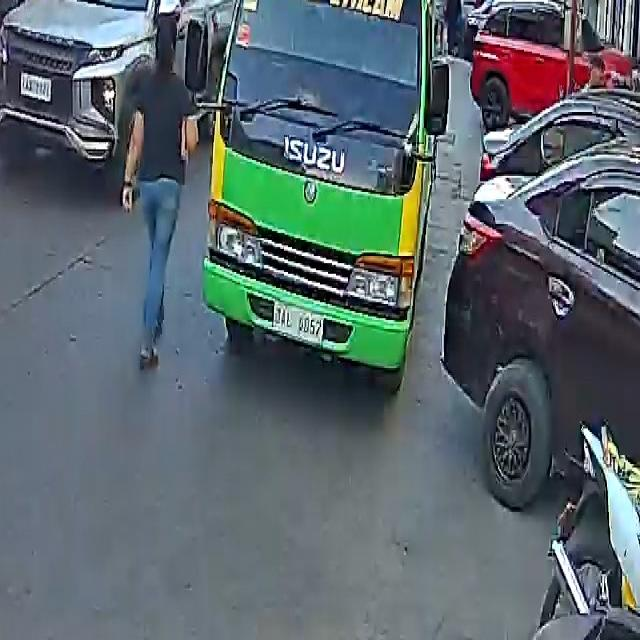car: (442, 97, 640, 516), (0, 0, 230, 172), (470, 0, 635, 133)
